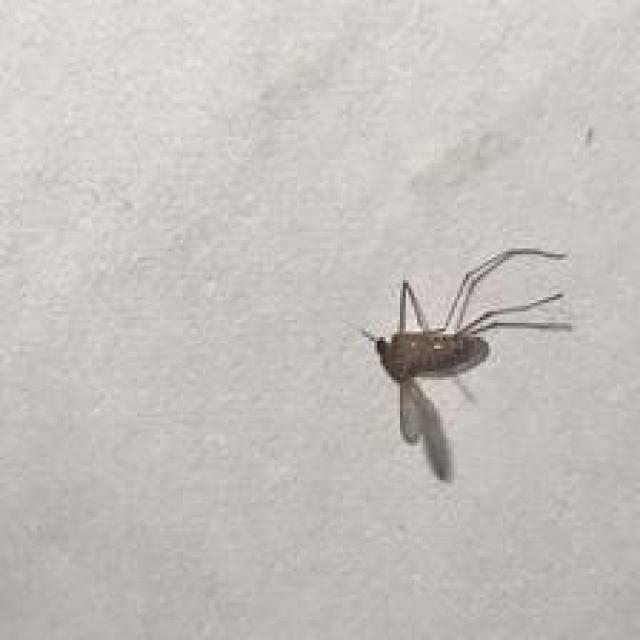Culex: (358, 246, 573, 483)
